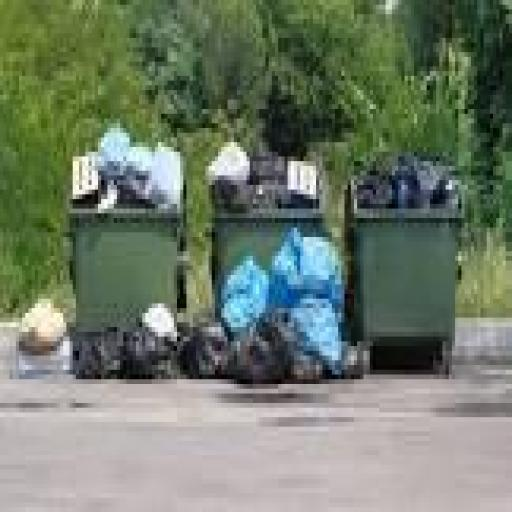poubelle_pleine: (50, 83, 206, 366), (192, 105, 348, 377), (324, 129, 475, 383)
